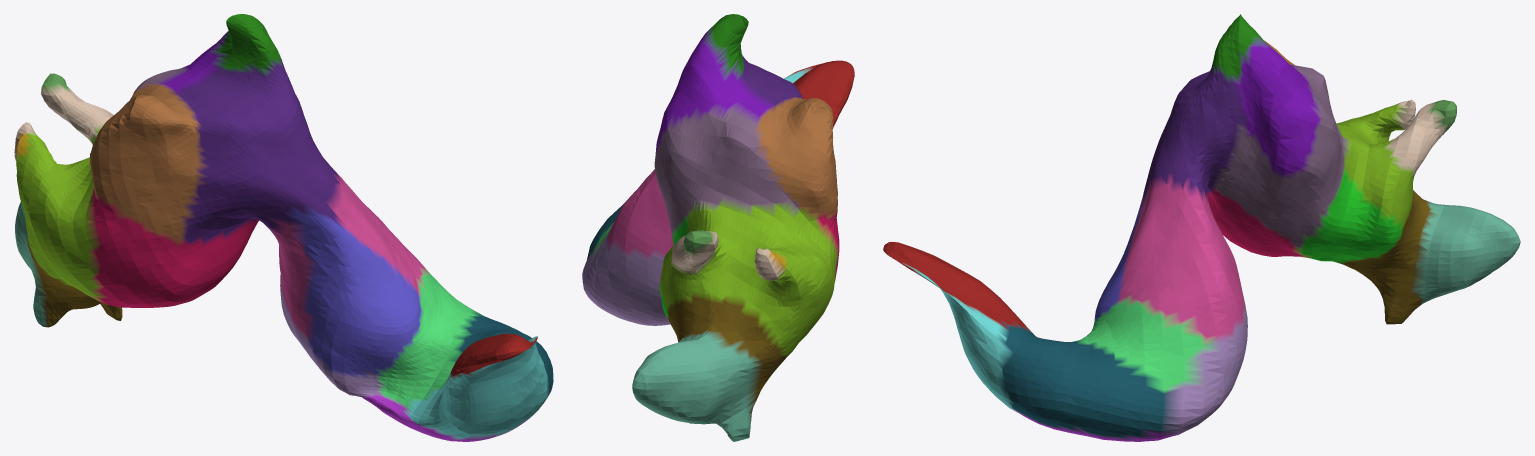
The model's file is fg-00010-geo-color.obj.
The picture shows the model from 3 angles, left to right: view 1: azimuth 30°, elevation 25°; view 2: azimuth 150°, elevation 25°; view 3: azimuth 270°, elevation 25°; orthographic projection. The views are drawn at different scales.
Size of the model in its own units: 0.1695 by 0.1727 by 0.2852.
